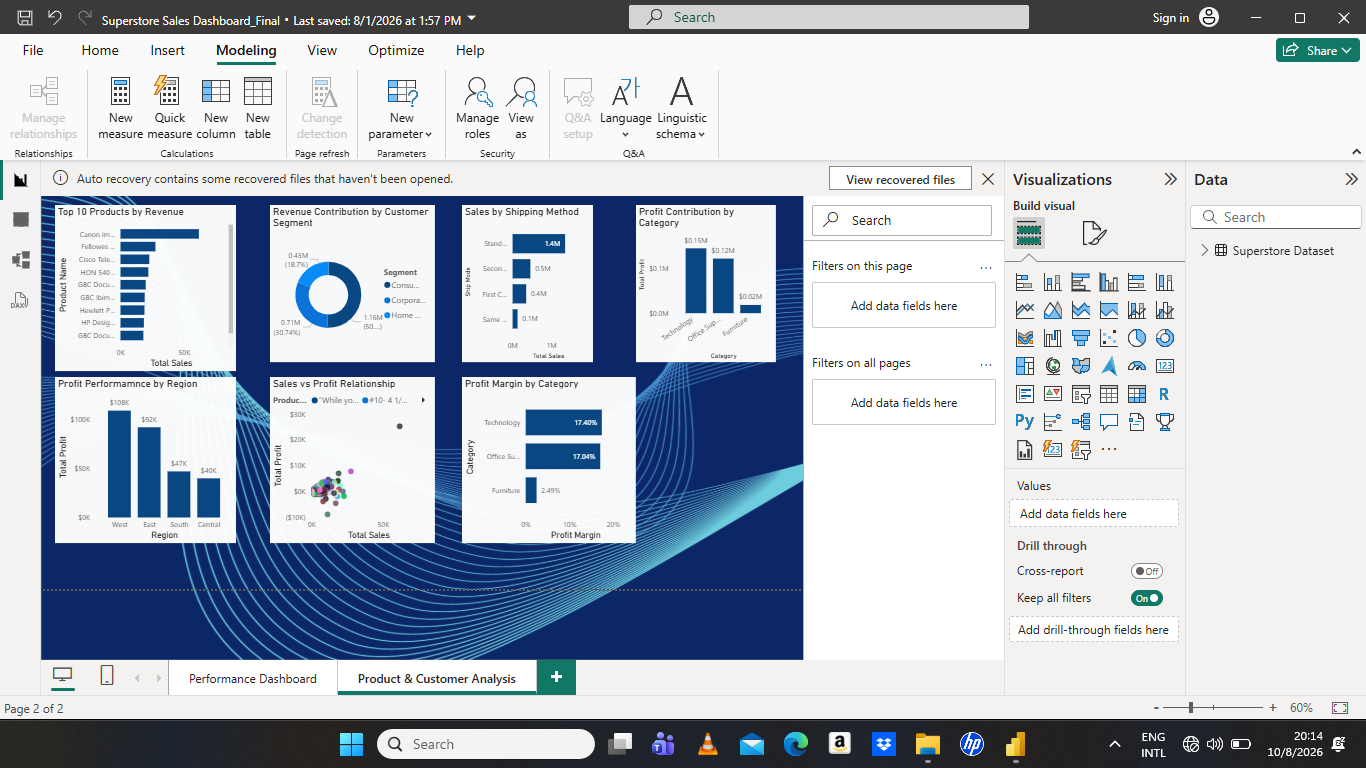

What the dashboard file says about the page in this screenshot:
{"tool":"powerbi","page":{"name":"Product & Customer Analysis","canvas":[1280,720],"ordinal":1},"visuals":[{"type":"clusteredBarChart","title":"Top 10 Products by Revenue","fields":{"Category":["Superstore Dataset.Product Name"],"Y":["Superstore Dataset.Total Sales"]},"box":[23.5,75.6,304,278.8],"z":0},{"type":"donutChart","title":"Revenue Contribution by Customer Segment","fields":{"Category":["Superstore Dataset.Segment"],"Y":["Superstore Dataset.Total Sales"]},"box":[384.7,75.6,277.2,263.7],"z":1000},{"type":"clusteredBarChart","title":"Sales by Shipping Method","fields":{"Category":["Superstore Dataset.Ship Mode"],"Y":["Superstore Dataset.Total Sales"]},"box":[707.2,75.6,220.1,263.7],"z":2000},{"type":"clusteredColumnChart","title":"Profit Contribution by Category","fields":{"Category":["Superstore Dataset.Category"],"Y":["Superstore Dataset.Total Profit"]},"box":[999.5,75.6,235.2,263.7],"z":3000},{"type":"clusteredColumnChart","title":"Profit Performamnce by Region","fields":{"Category":["Superstore Dataset.Region"],"Y":["Superstore Dataset.Total Profit"]},"box":[24,365,304,279],"z":4000},{"type":"scatterChart","title":"Sales vs Profit Relationship","fields":{"X":["Superstore Dataset.Total Sales"],"Y":["Superstore Dataset.Total Profit"],"Category":["Superstore Dataset.Category"],"Series":["Superstore Dataset.Product Name"]},"box":[385,365,277,279],"z":5000},{"type":"clusteredBarChart","fields":{"Category":["Superstore Dataset.Category"],"Y":["Superstore Dataset.Profit Margin"]},"box":[707.2,364.5,292.3,278.8],"z":5001}]}

Visuals, with their boxes on the page's 1280x720 design canvas (x1, y1, x2, y2). These are canvas units, not pixel positions in the 1366x768 screenshot, which may show the page scaled, cropped or inside an application window:
"Top 10 Products by Revenue" clusteredBarChart: bbox=[24, 76, 328, 354]
"Revenue Contribution by Customer Segment" donutChart: bbox=[385, 76, 662, 339]
"Sales by Shipping Method" clusteredBarChart: bbox=[707, 76, 927, 339]
"Profit Contribution by Category" clusteredColumnChart: bbox=[1000, 76, 1235, 339]
"Profit Performamnce by Region" clusteredColumnChart: bbox=[24, 365, 328, 644]
"Sales vs Profit Relationship" scatterChart: bbox=[385, 365, 662, 644]
clusteredBarChart - Superstore Dataset.Category x Superstore Dataset.Profit Margin: bbox=[707, 364, 1000, 643]
